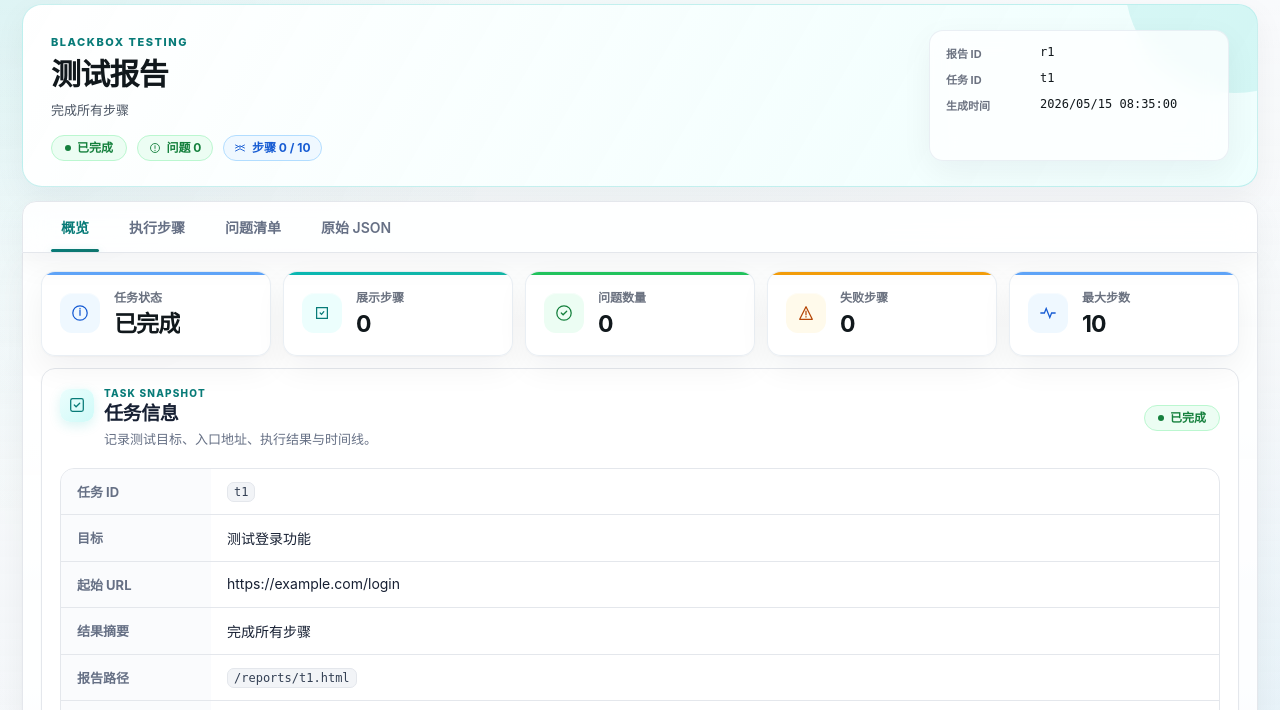
it: ReportView › 原始 JSON 区域懒挂载：激活前不渲染大文本块
Step 1. Click the tab with class "nav-link" showing "原始 JSON" → (356, 227), box [301, 202, 411, 252]
(page scrolled)
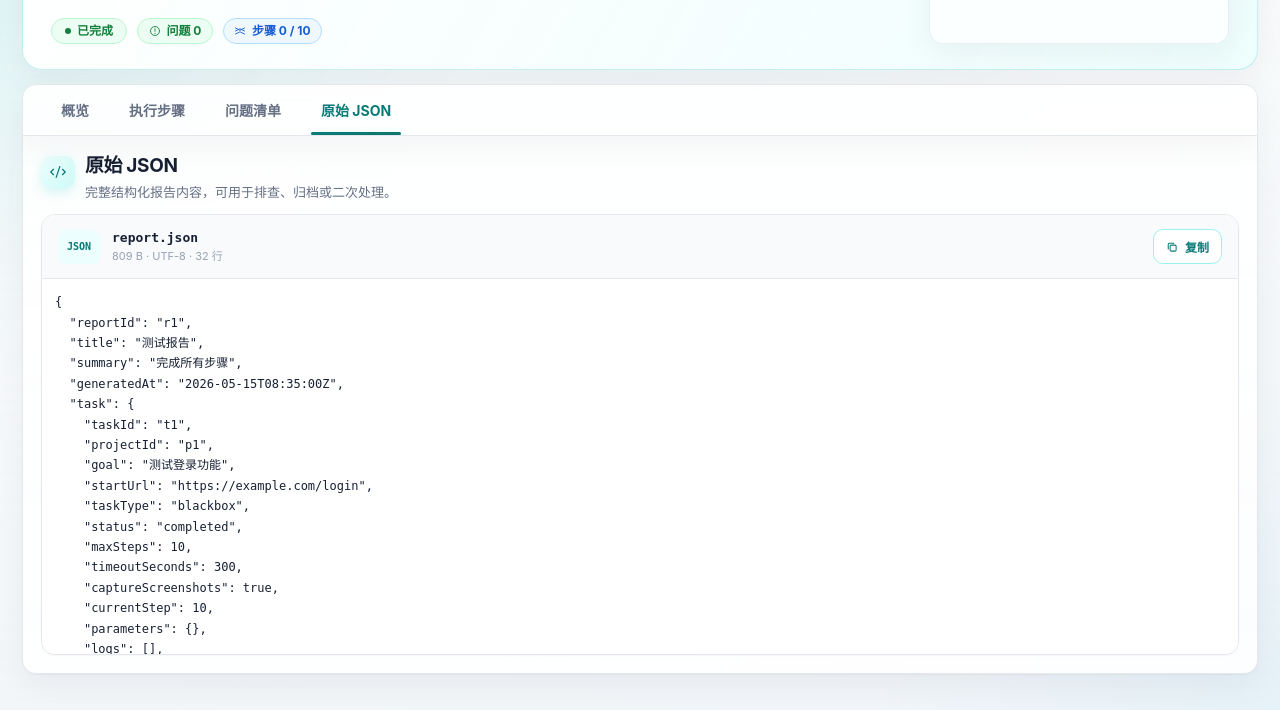
Expected: the text "复制" is shown, [1153, 229, 1222, 264]
Expected: the text with class "json-block" is shown, [42, 279, 1238, 654]
